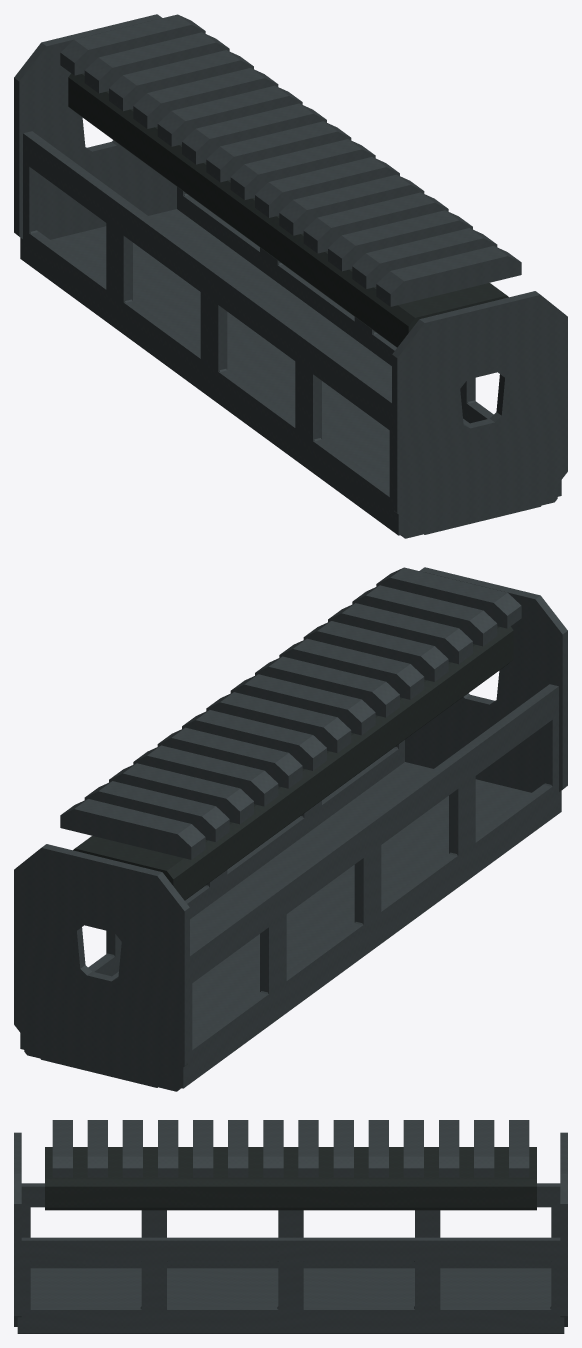
File: ak12_guard_long.glb
The picture shows the model from 3 angles, top to bottom: view 1: azimuth 30°, elevation 25°; view 2: azimuth 150°, elevation 25°; view 3: azimuth 270°, elevation 25°; orthographic projection. The views are drawn at different scales.
Parts seen in each view (by area): view 1: ak12_guard_long_vent_wall, ak12_guard_long_vent_wall.008, ak12_guard_long_upper_cover; view 2: ak12_guard_long_vent_wall, ak12_guard_long_vent_wall.008, ak12_guard_long_upper_cover; view 3: ak12_guard_long_vent_wall, ak12_guard_long_upper_cover, ak12_guard_long_vent_wall.008.
Boxes of the visible parts, x1,y1,x2,y2 form: ak12_guard_long_vent_wall: (14,14,567,538); ak12_guard_long_vent_wall.008: (20,131,561,535); ak12_guard_long_upper_cover: (68,73,508,347); ak12_guard_long_vent_wall: (14,567,567,1091); ak12_guard_long_vent_wall.008: (20,684,561,1088); ak12_guard_long_upper_cover: (73,626,513,900); ak12_guard_long_vent_wall: (14,1120,567,1333); ak12_guard_long_upper_cover: (45,1147,536,1210); ak12_guard_long_vent_wall.008: (17,1183,564,1332).
Bounding box in the file's own units: 0.112 × 0.147 × 0.436.
2 materials, 2 textured.
